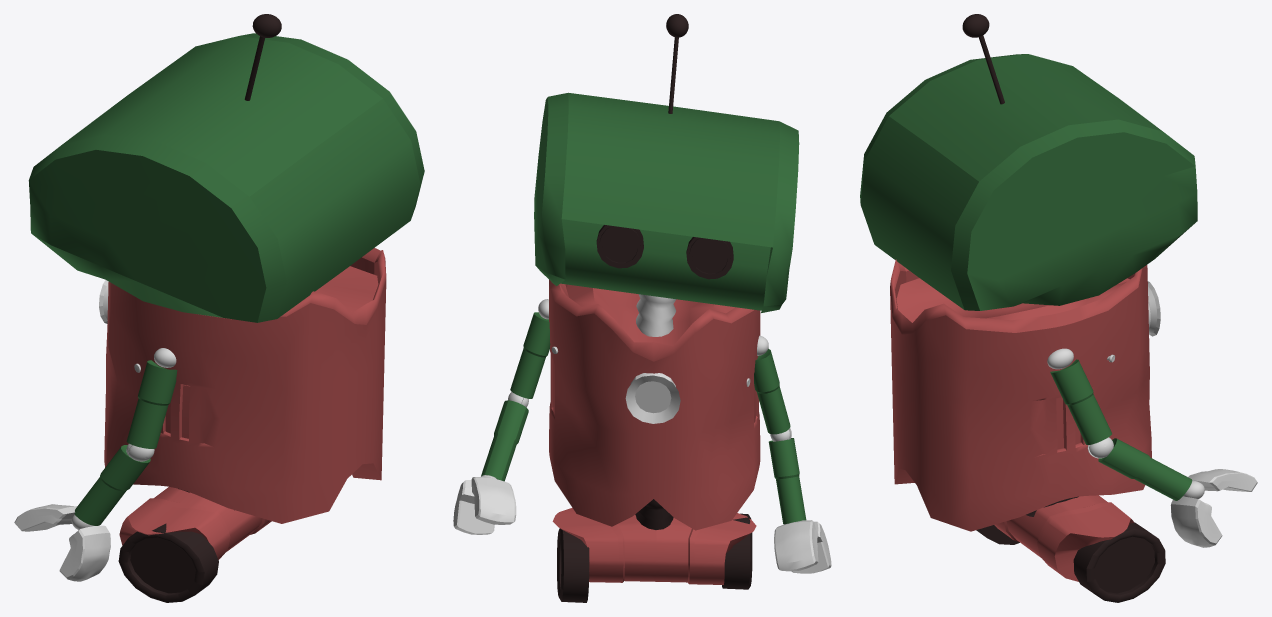
Rendered from SamLivesUnityPolished2.fbx.
3 renders of one model, left to right at view 1: azimuth 30°, elevation 25°; view 2: azimuth 150°, elevation 25°; view 3: azimuth 270°, elevation 25°, orthographic. The views are drawn at different scales.
Parts seen in each view (by area): view 1: polySurface2, Chest, Wheels_1, Hips2, RightArm9, RightArm8, RightHand_5, RightHand_6, AntinaBall; view 2: polySurface2, Chest, Hips2, Scanner, Wheels_2, RightArm8, RightArm5, RightHand_6, RightArm4, RightArm9, RightHand_3, Eyes1 (+6 smaller); view 3: polySurface2, Chest, Hips2, Wheels_2, RightArm4, RightArm5, RightHand_4, RightHand_3, Scanner.
Part boxes in pixels (left/top/right/bottom): polySurface2: left=28, top=33, right=424, bottom=322; Chest: left=104, top=248, right=386, bottom=523; Wheels_1: left=118, top=523, right=218, bottom=602; Hips2: left=119, top=487, right=271, bottom=559; RightArm9: left=126, top=360, right=177, bottom=448; RightArm8: left=74, top=445, right=150, bottom=525; RightHand_5: left=59, top=525, right=110, bottom=581; RightHand_6: left=14, top=504, right=76, bottom=531; AntinaBall: left=252, top=14, right=281, bottom=37; polySurface2: left=534, top=92, right=799, bottom=312; Chest: left=549, top=279, right=760, bottom=530; Hips2: left=552, top=508, right=756, bottom=584; Scanner: left=625, top=373, right=680, bottom=423; Wheels_2: left=557, top=528, right=589, bottom=602; RightArm8: left=768, top=438, right=806, bottom=524; RightArm5: left=481, top=400, right=528, bottom=481; RightHand_6: left=774, top=520, right=818, bottom=571; RightArm4: left=510, top=312, right=550, bottom=398; RightArm9: left=754, top=348, right=790, bottom=434; RightHand_3: left=471, top=477, right=516, bottom=524; Eyes1: left=596, top=225, right=643, bottom=268; polySurface2: left=860, top=54, right=1197, bottom=310; Chest: left=890, top=259, right=1151, bottom=531; Hips2: left=994, top=495, right=1134, bottom=581; Wheels_2: left=1073, top=522, right=1165, bottom=602; RightArm4: left=1050, top=359, right=1111, bottom=445; RightArm5: left=1098, top=438, right=1192, bottom=500; RightHand_4: left=1170, top=496, right=1222, bottom=547; RightHand_3: left=1188, top=469, right=1257, bottom=491; Scanner: left=1147, top=281, right=1160, bottom=336.
Size of the model in its own units: 61.91 by 96.7 by 61.9.
